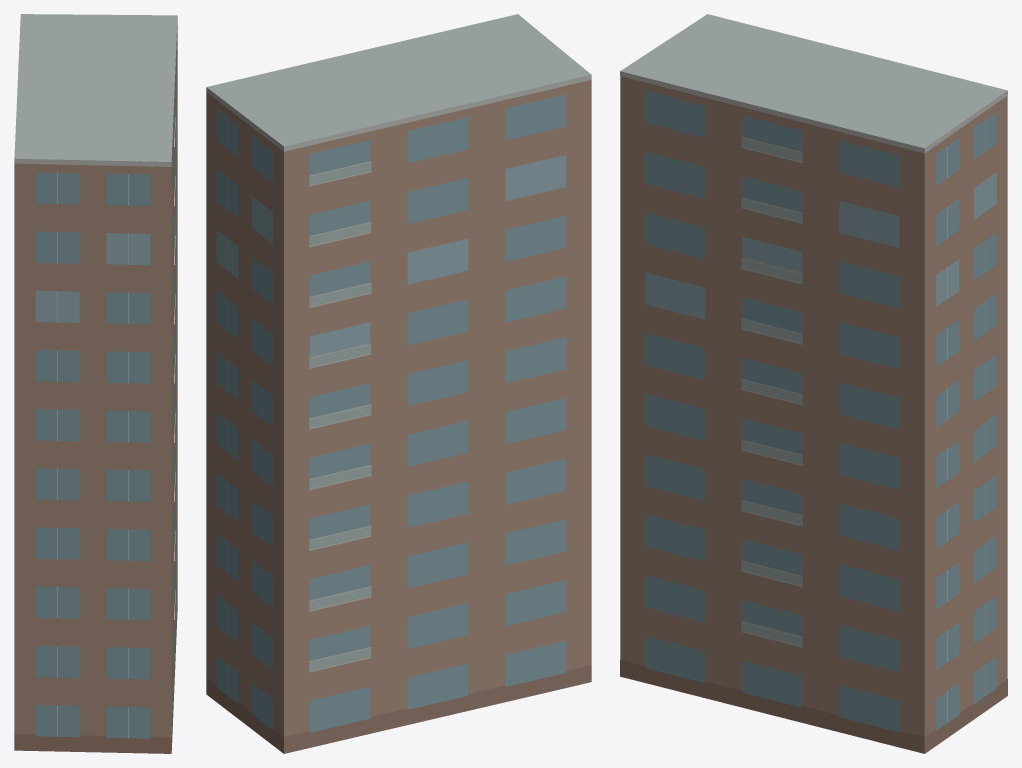
File: survey-upis-32955366.glb
3 renders of one model, left to right at view 1: azimuth 30°, elevation 25°; view 2: azimuth 150°, elevation 25°; view 3: azimuth 270°, elevation 25°, orthographic. The views are drawn at different scales.
Visible parts, largest first — view 1: survey-upis-32955366.tmp; view 2: survey-upis-32955366.tmp; view 3: survey-upis-32955366.tmp.
Boxes of the visible parts, x1,y1,x2,y2 form: survey-upis-32955366.tmp: [14, 14, 177, 753]; survey-upis-32955366.tmp: [206, 14, 591, 753]; survey-upis-32955366.tmp: [620, 14, 1007, 753].
Size of the model in its own units: 14.06 by 29.5 by 17.13.
